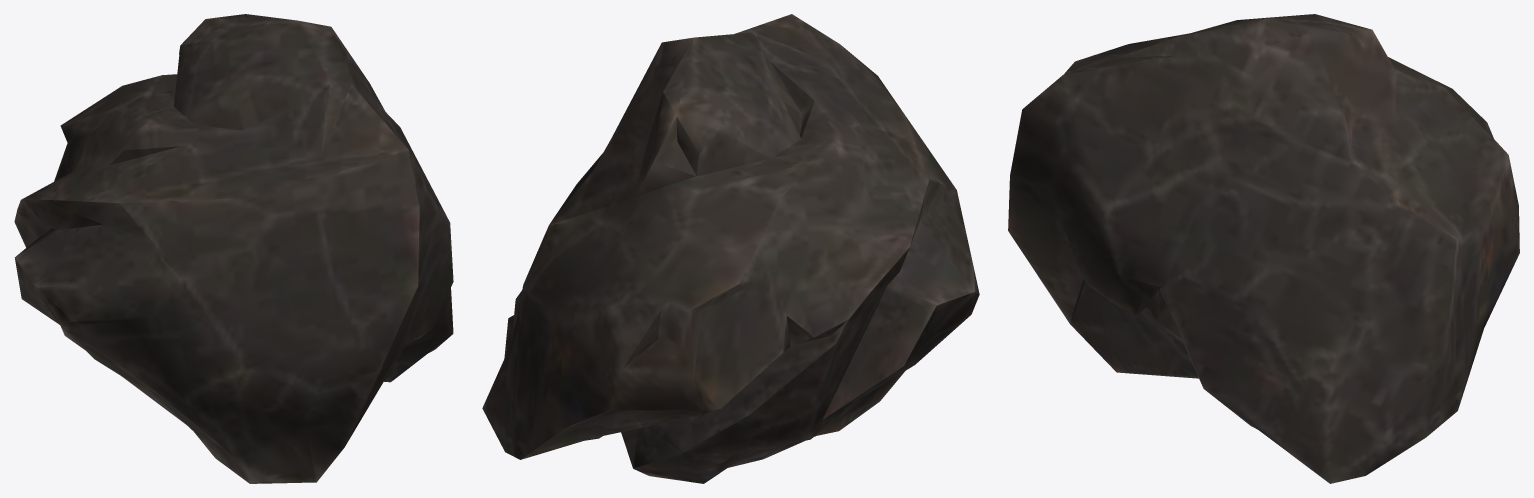
The model's file is asteroid-3-lod1.glb.
3 renders of one model, left to right at view 1: azimuth 30°, elevation 25°; view 2: azimuth 150°, elevation 25°; view 3: azimuth 270°, elevation 25°, orthographic. The views are drawn at different scales.
Parts seen in each view (by area): view 1: asteroid-3-lod1; view 2: asteroid-3-lod1; view 3: asteroid-3-lod1.
Part boxes in pixels (x1=…): asteroid-3-lod1: x1=14, y1=14, x2=453, y2=483; asteroid-3-lod1: x1=482, y1=14, x2=979, y2=483; asteroid-3-lod1: x1=1008, y1=14, x2=1519, y2=483.
Bounding box in the file's own units: 1.94 × 1.68 × 2.
1 material, 1 textured.
